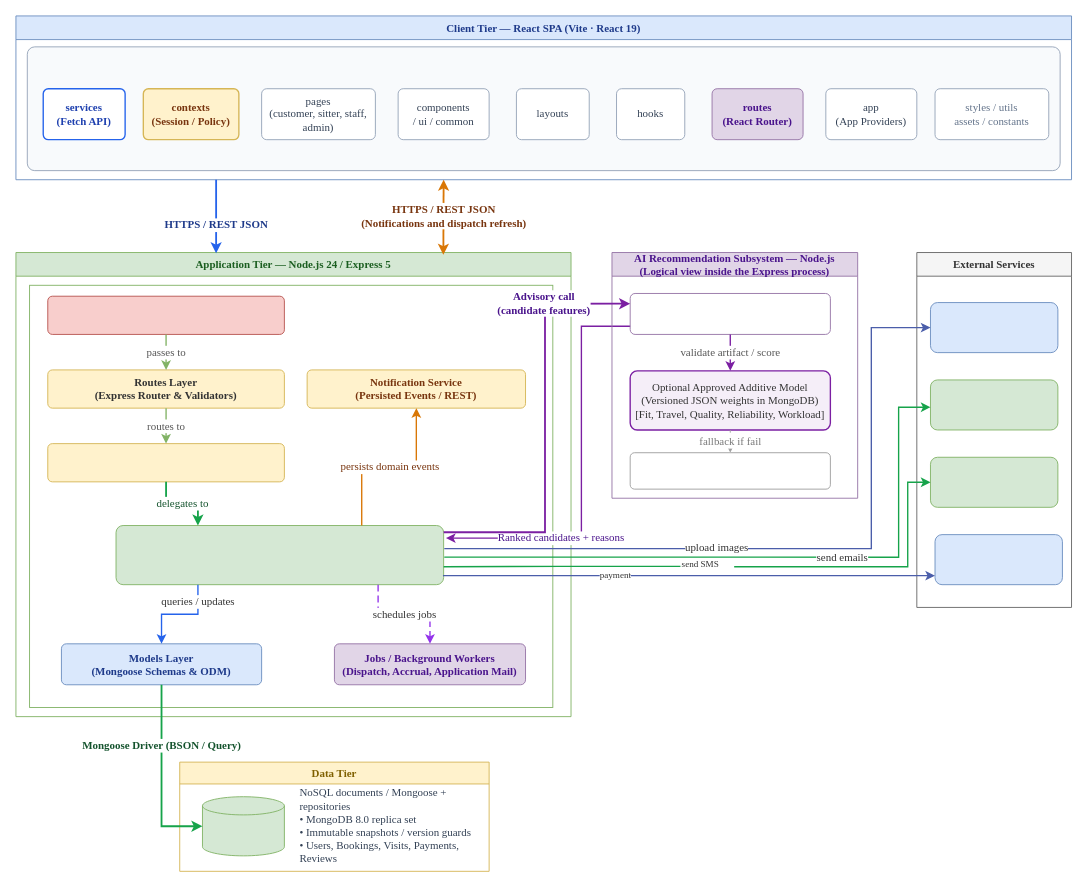
Some shapes in this 1087 by 887 pixel diagram are drawn without their labels. The centre of each missing label's shape, as x and y in pixels:
"Controllers Layer (HTTP Request Handlers)" goes at [165,462].
"eSMS Gateway (OTP delivery)" goes at [994,481].
"Explainable Rule Scoring (Default when no approved valid model)" goes at [729,470].
"Middlewares (Session, CSRF, Rate Limit, Helmet)" goes at [165,314].
"MongoDB" goes at [243,826].
"PayOS" goes at [998,559].
"Private Media Adapters (R2; MongoDB avatar/product images)" goes at [994,327].
"Recommendation / Routing Ports (Node.js; Vietmap / OSRM road ETA)" goes at [729,313].
"Services Layer (Business Logic: Booking, Dispatch, Auth)" goes at [279,555].
"SMTP / Mail Server (Nodemailer Notifications)" goes at [994,404].
